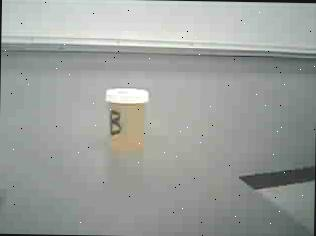Bottle B: (97, 82, 158, 161)
